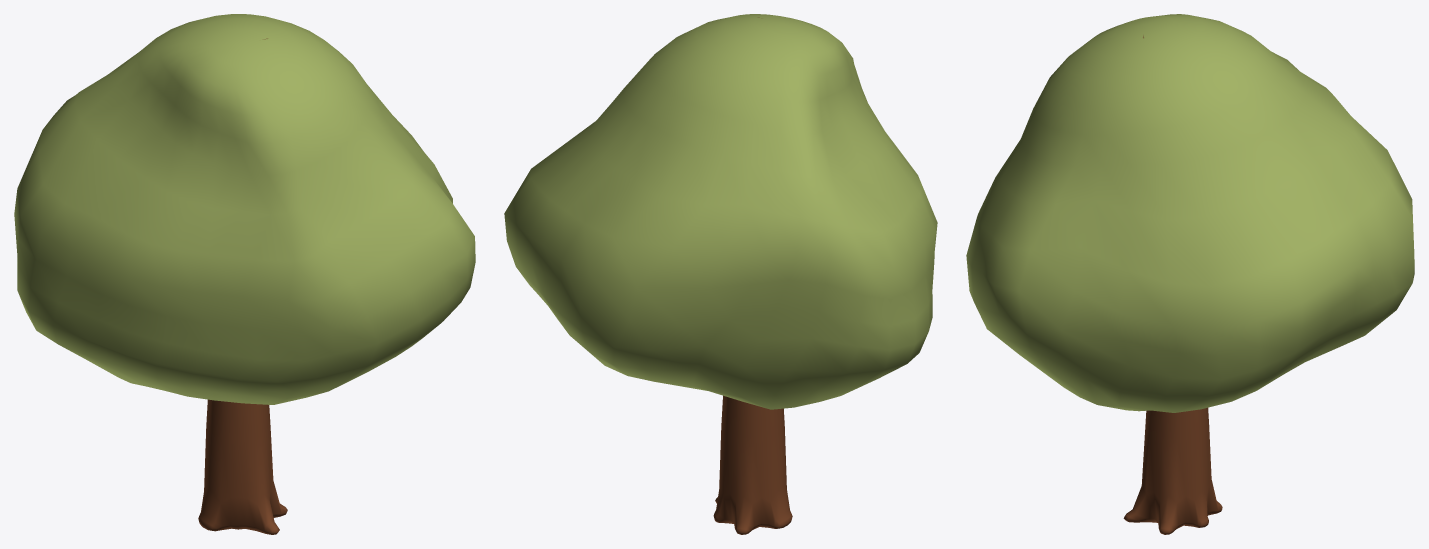
File: Tree.fbx
3 views of the same model, side by side, from view 1: azimuth 30°, elevation 25°; view 2: azimuth 150°, elevation 25°; view 3: azimuth 270°, elevation 25° (orthographic).
Visible parts, largest first — view 1: Tree; view 2: Tree; view 3: Tree.
Boxes of the visible parts, x1,y1,x2,y2 form: Tree: (14,14,475,534); Tree: (504,14,937,534); Tree: (966,14,1414,534).
Bounding box in the file's own units: 395 × 475 × 395.
1 material, 1 textured.
